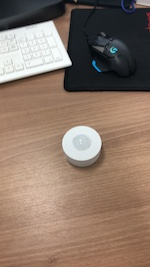bulb: (61, 125, 104, 168)
